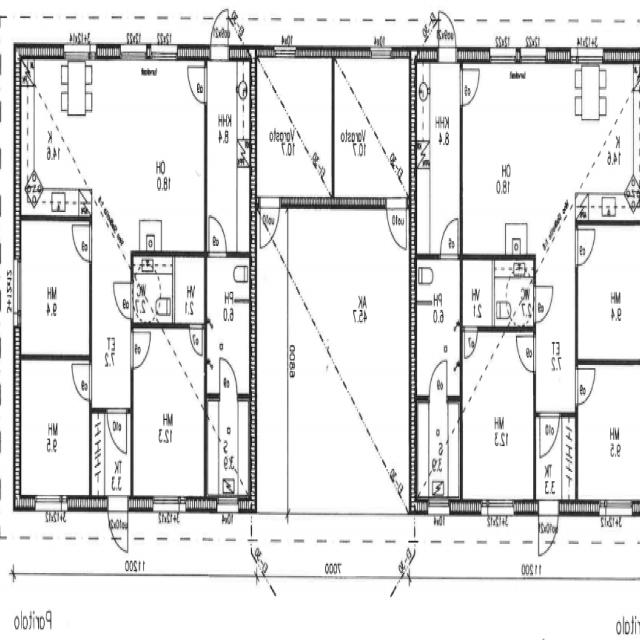door: (108, 495, 128, 557), (539, 498, 558, 555), (260, 196, 280, 250), (387, 196, 407, 250), (439, 9, 457, 64), (210, 11, 228, 64), (107, 408, 127, 453), (540, 413, 559, 456), (515, 336, 536, 374), (429, 358, 447, 402), (71, 364, 92, 401), (71, 225, 92, 262), (460, 69, 481, 106), (440, 217, 458, 260), (131, 331, 151, 369), (209, 216, 227, 256), (187, 66, 207, 102), (534, 286, 554, 322), (576, 368, 596, 404), (576, 230, 596, 266), (220, 358, 237, 400), (114, 284, 133, 318), (190, 322, 202, 354), (465, 327, 477, 358)
